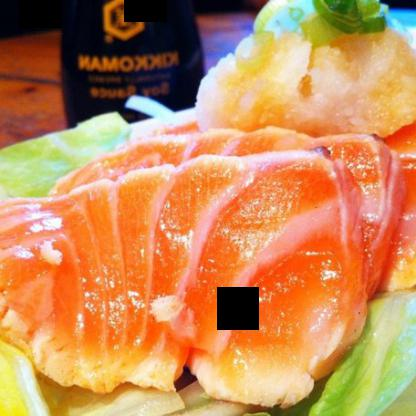salmon: (1, 154, 356, 402), (40, 121, 396, 303)
